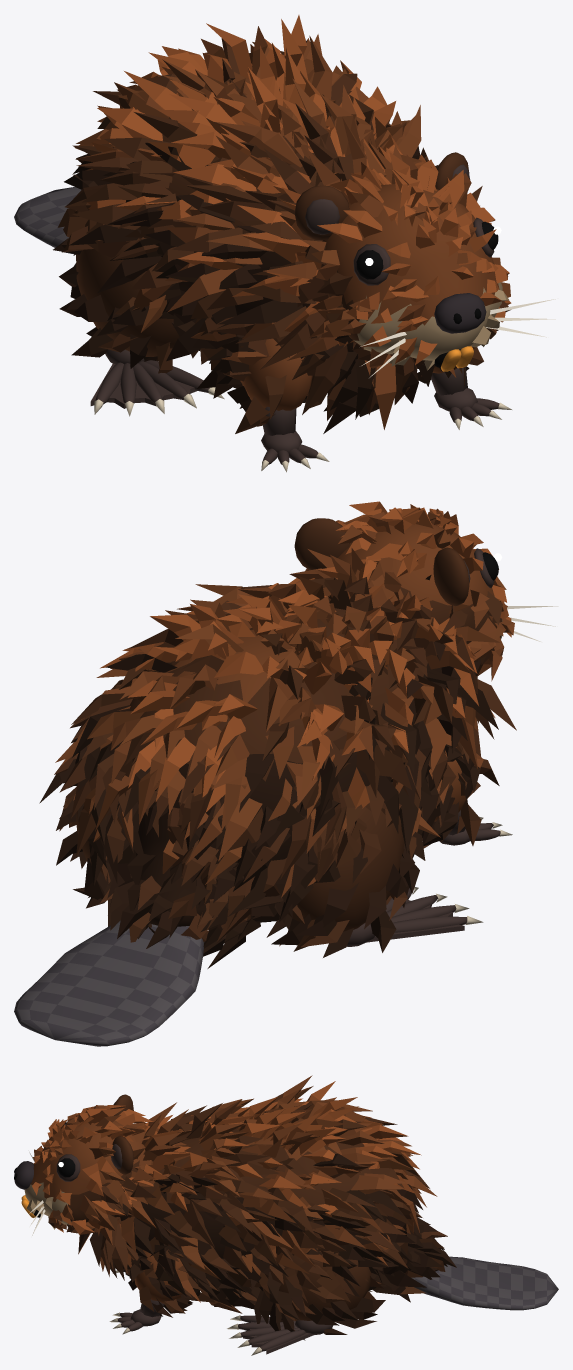
The model's file is beaver.glb.
The picture shows the model from 3 angles, top to bottom: view 1: azimuth 30°, elevation 25°; view 2: azimuth 150°, elevation 25°; view 3: azimuth 270°, elevation 25°; orthographic projection. The views are drawn at different scales.
Visible parts, largest first — view 1: body, head, leg_BR, leg_FR, leg_FL, tail, eye_R; view 2: body, head, leg_BR, tail, leg_FR, leg_BL; view 3: body, head, leg_BL, tail, leg_FL.
Part boxes in pixels (<box>): body: <box>64,15,482,433</box>; head: <box>294,152,555,377</box>; leg_BR: <box>53,174,224,416</box>; leg_FR: <box>206,334,329,472</box>; leg_FL: <box>417,329,511,429</box>; tail: <box>14,187,81,254</box>; eye_R: <box>356,250,383,279</box>; body: <box>55,548,516,968</box>; head: <box>294,501,558,681</box>; leg_BR: <box>271,762,483,957</box>; tail: <box>14,920,204,1046</box>; leg_FR: <box>420,734,512,848</box>; leg_BL: <box>39,746,108,908</box>; body: <box>78,1075,456,1313</box>; head: <box>14,1094,158,1235</box>; leg_BL: <box>227,1205,387,1355</box>; tail: <box>411,1256,558,1310</box>; leg_FL: <box>109,1238,200,1334</box>.
Bounding box in the file's own units: 0.7754 × 0.5753 × 1.43.
